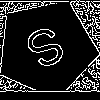S: (21, 23, 74, 80)
